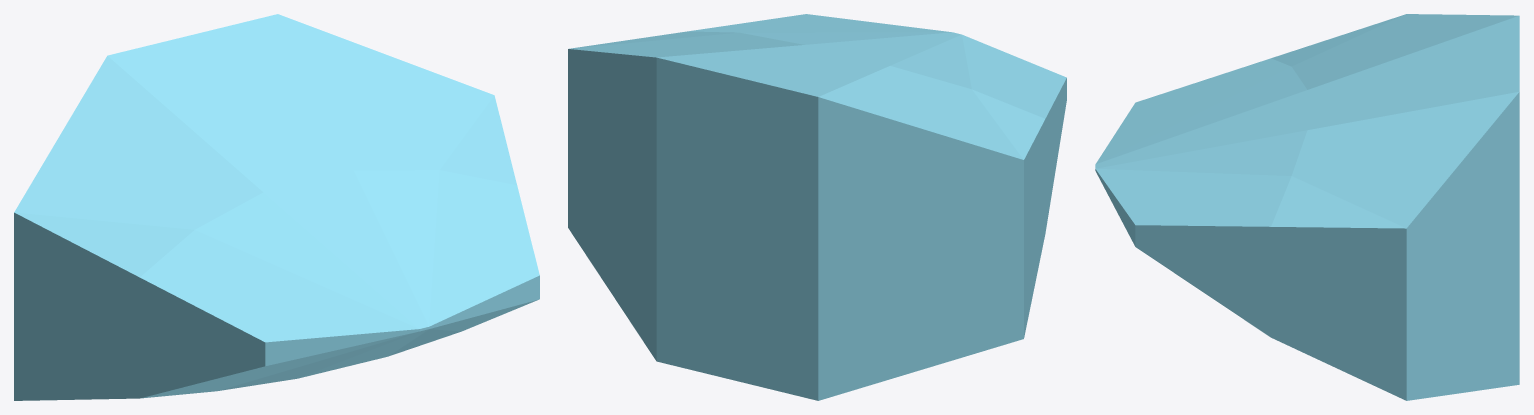
The model's file is vision_range.glb.
The picture shows the model from 3 angles, left to right: view 1: azimuth 30°, elevation 25°; view 2: azimuth 150°, elevation 25°; view 3: azimuth 270°, elevation 25°; orthographic projection. The views are drawn at different scales.
Visible parts, largest first — view 1: VisionRange; view 2: VisionRange; view 3: VisionRange.
Boxes of the visible parts, box(x1,y1,x2,y2) form: VisionRange: box(14, 14, 539, 400); VisionRange: box(568, 14, 1066, 400); VisionRange: box(1095, 14, 1519, 400).
Bounding box in the file's own units: 100 × 63.74 × 83.61.
